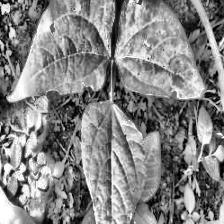ALS: (2, 0, 115, 101), (119, 0, 203, 101)
